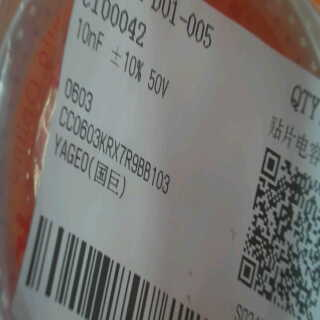10nF: (72, 17, 105, 55)
